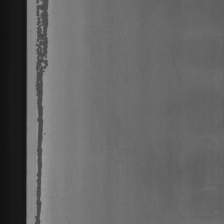water_spot: (33, 0, 51, 224)
